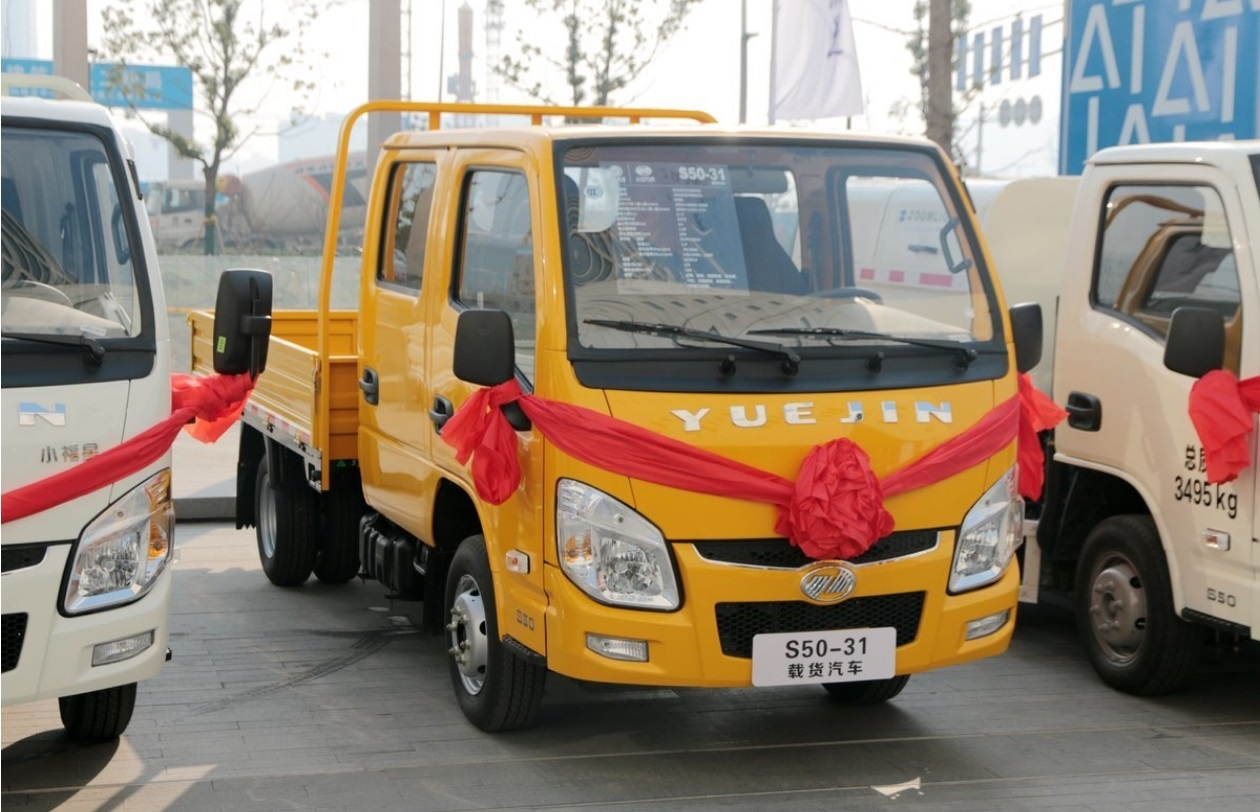truck: (194, 76, 1031, 727)
